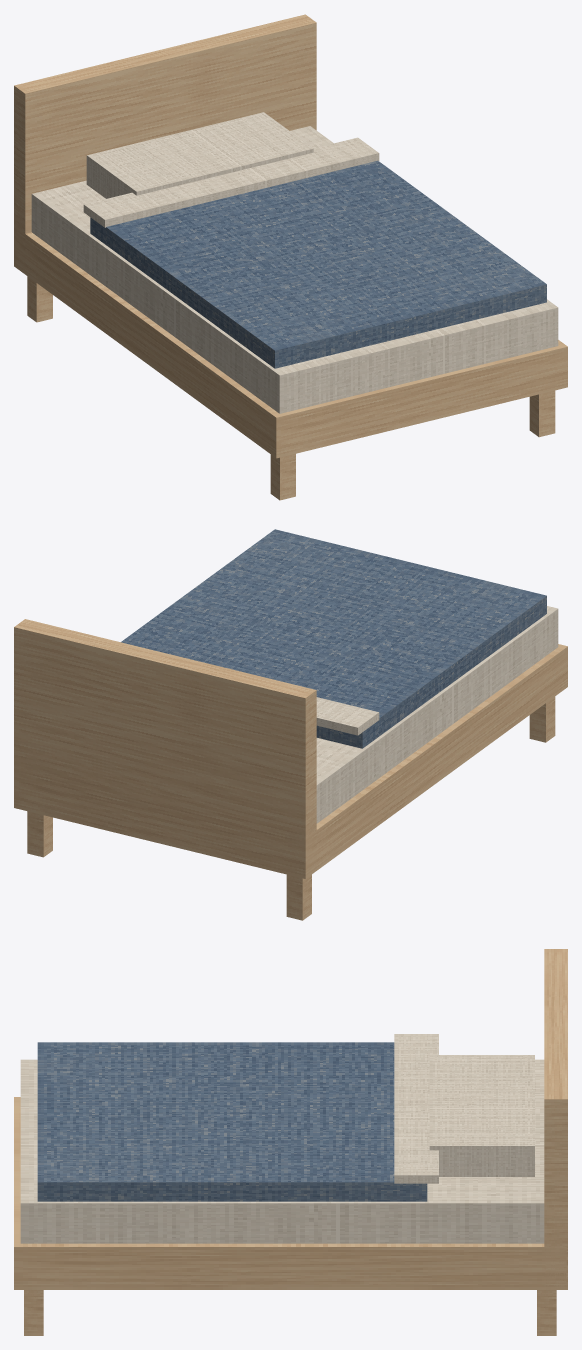
The model's file is city_bed.glb.
3 renders of one model, top to bottom at view 1: azimuth 30°, elevation 25°; view 2: azimuth 150°, elevation 25°; view 3: azimuth 270°, elevation 25°, orthographic. The views are drawn at different scales.
Parts seen in each view (by area): view 1: root; view 2: root; view 3: root.
Boxes of the visible parts, <box> form: root: <box>14,14,567,500</box>; root: <box>14,529,567,920</box>; root: <box>14,949,567,1335</box>.
Size of the model in its own units: 1.35 by 1.01 by 2.1.
1 material, 1 textured.
